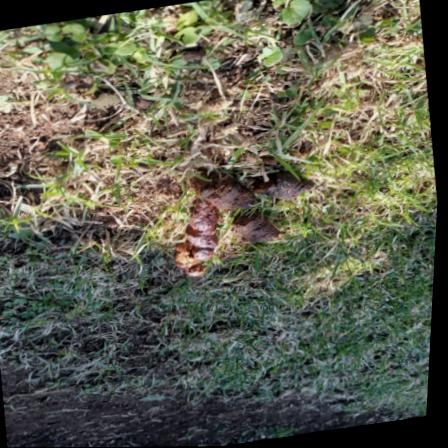dog-poop: (160, 154, 326, 285)
